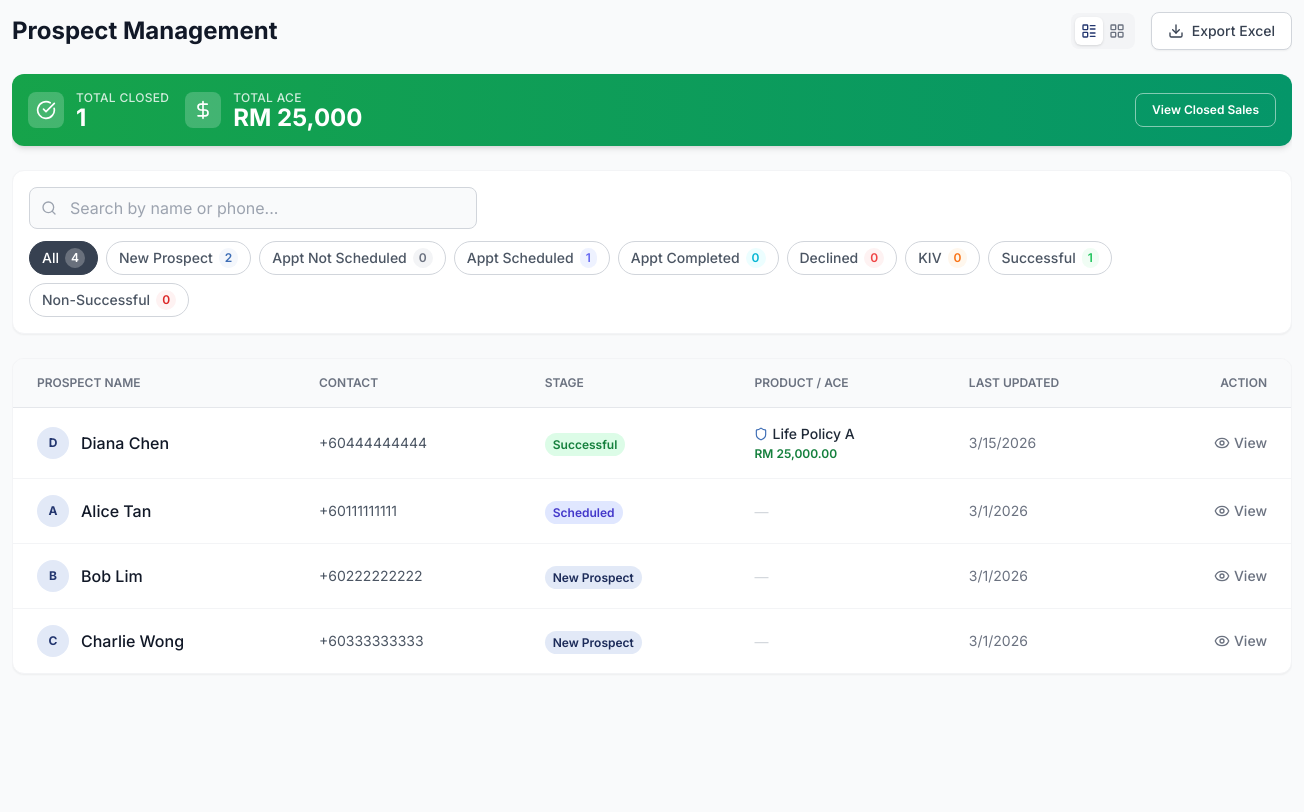
Prospects — search filter › filters by name in real time
Expected: the text "Alice Tan" is shown, [81,499,151,523]
Type "Bob" into the field with placeholder "Search by name or phone...". click: (253, 208)
box: [29,187,477,229]
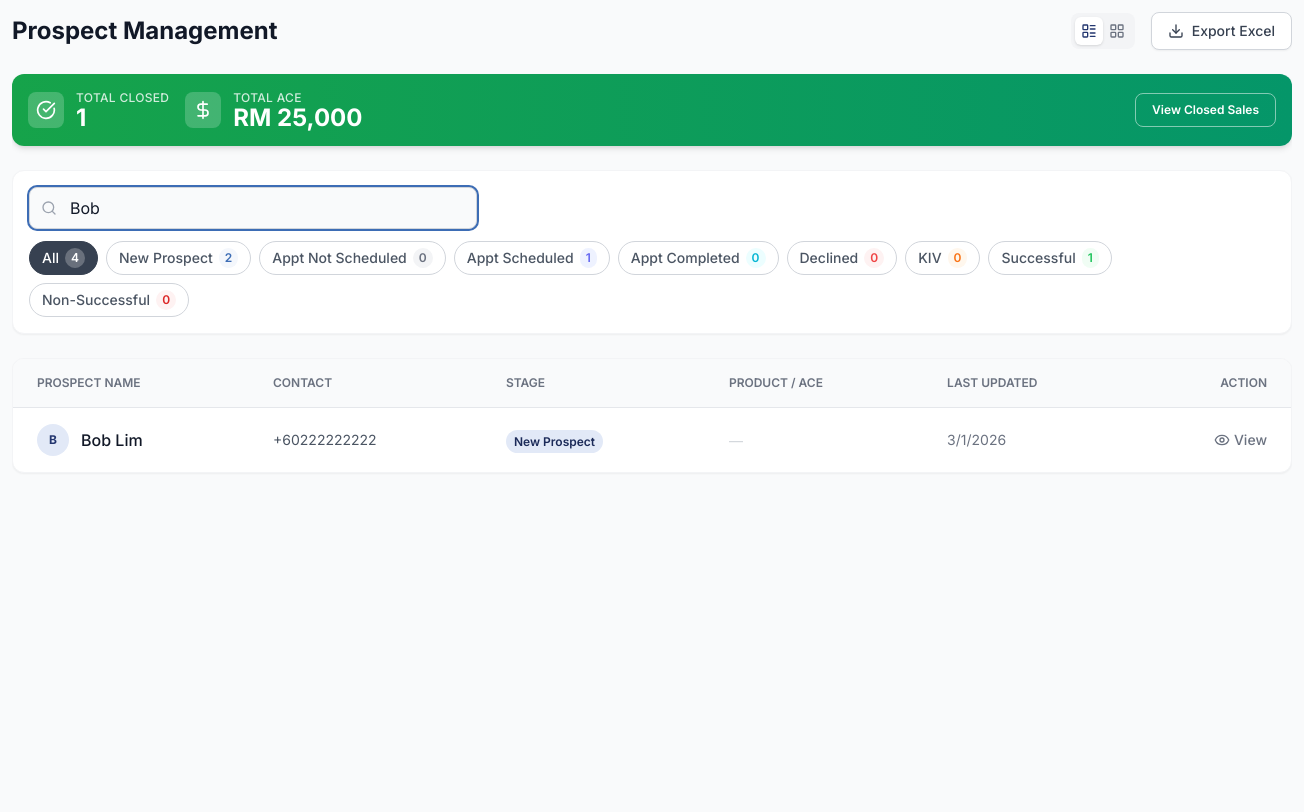
Expected: the text "Bob Lim" is shown, [81,428,143,452]
Expected: the text "Alice Tan" is gone
